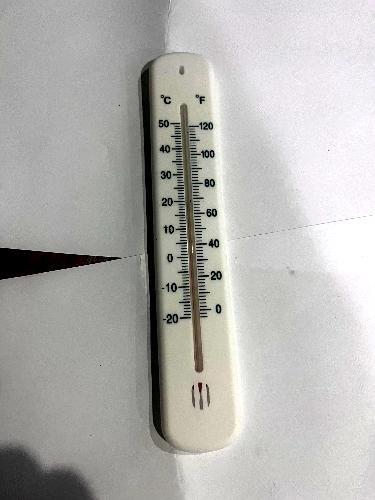thermo: (150, 53, 240, 444)
